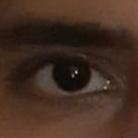open: (13, 43, 127, 115)
